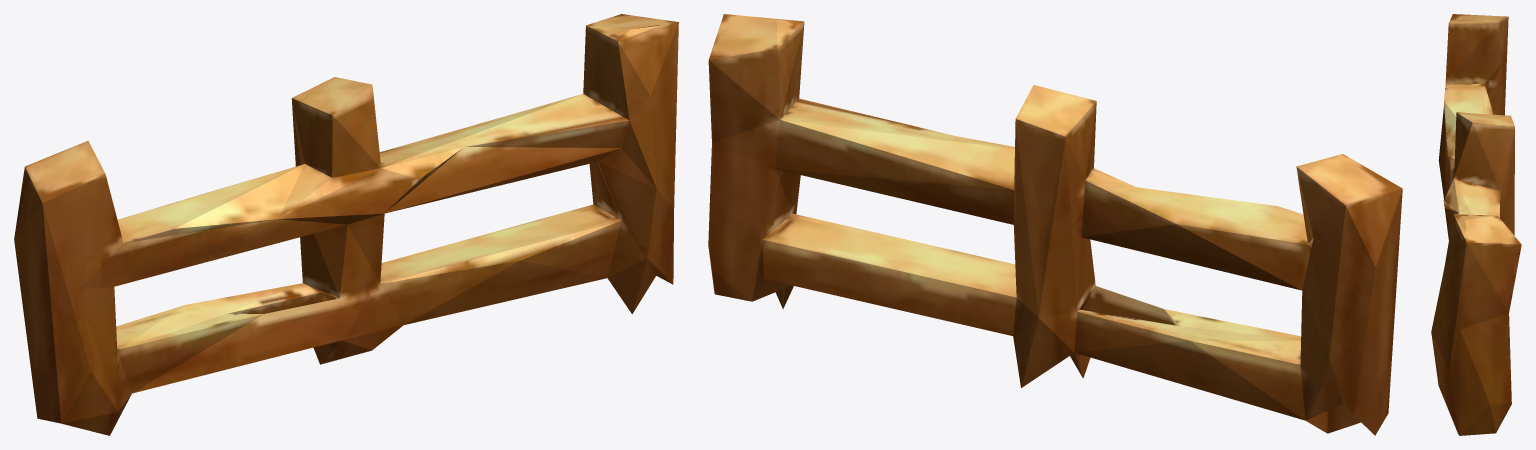
Rendered from fence-rail.glb.
The picture shows the model from 3 angles, left to right: view 1: azimuth 30°, elevation 25°; view 2: azimuth 150°, elevation 25°; view 3: azimuth 270°, elevation 25°; orthographic projection. The views are drawn at different scales.
Visible parts, largest first — view 1: fence-rail; view 2: fence-rail; view 3: fence-rail.
Part boxes in pixels (box(x1,y1,x2,y2)): fence-rail: box(14, 14, 678, 435); fence-rail: box(708, 14, 1402, 435); fence-rail: box(1431, 14, 1521, 435).
Size of the model in its own units: 3.04 by 1.28 by 0.48.
1 material, 1 textured.
